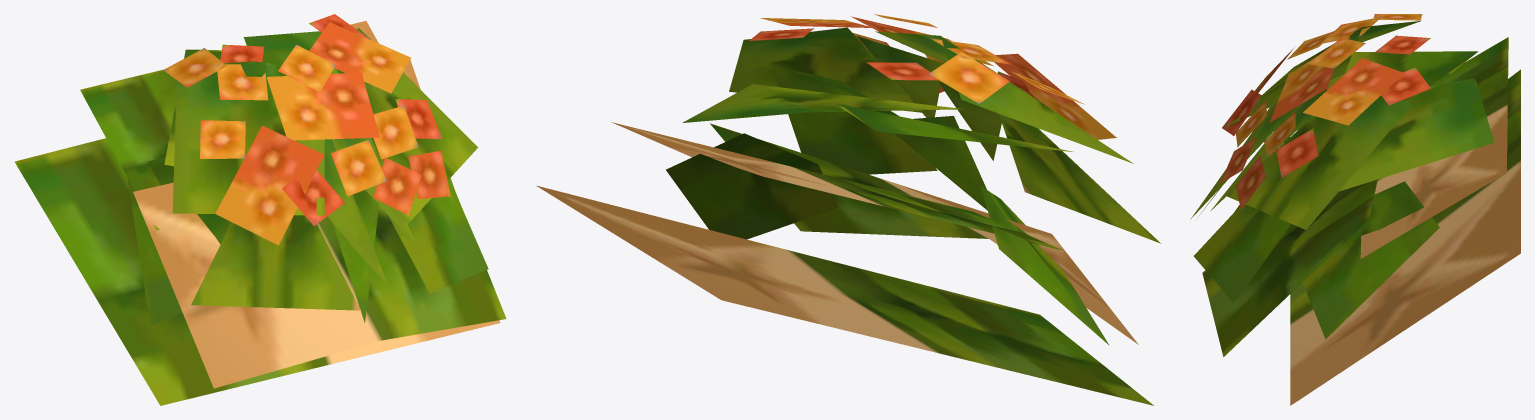
File: fg_bushE_2.dae
The picture shows the model from 3 angles, left to right: view 1: azimuth 30°, elevation 25°; view 2: azimuth 150°, elevation 25°; view 3: azimuth 270°, elevation 25°; orthographic projection. The views are drawn at different scales.
Parts seen in each view (by area): view 1: fg_bushE_2; view 2: fg_bushE_2; view 3: fg_bushE_2.
Part boxes in pixels (x1,y1,x2,y2): fg_bushE_2: [15, 14, 506, 405]; fg_bushE_2: [536, 14, 1161, 405]; fg_bushE_2: [1190, 14, 1520, 405].
Bounding box in the file's own units: 50.84 × 35.63 × 37.63.
1 material, 1 textured.
